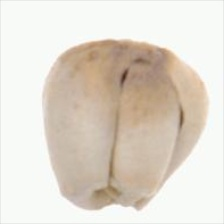L3: (73, 184, 153, 212)
L4: (40, 39, 208, 212)
